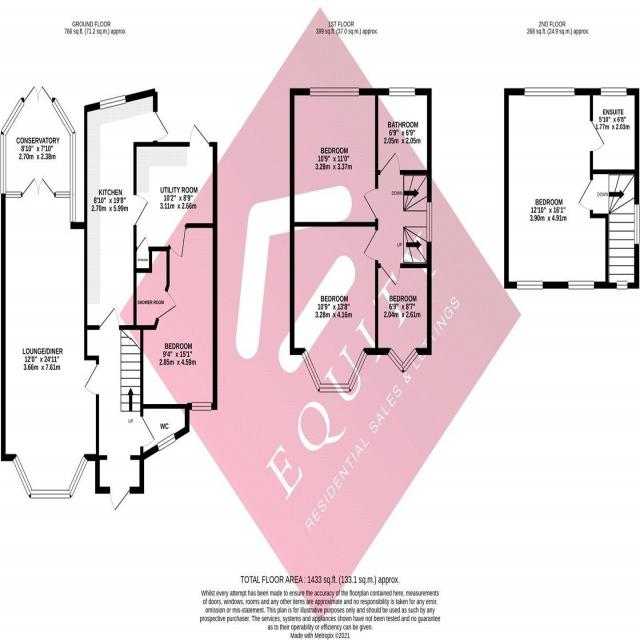DOOR: (589, 117, 607, 153), (152, 109, 170, 143), (82, 362, 99, 396), (170, 225, 187, 259), (109, 486, 131, 512), (363, 227, 379, 262), (363, 187, 379, 220), (188, 123, 210, 147), (98, 306, 120, 330), (133, 194, 150, 225), (380, 263, 402, 286), (379, 151, 400, 174)
ROOM: (1, 177, 100, 499), (503, 88, 610, 289), (84, 88, 170, 330), (289, 221, 379, 393), (140, 221, 218, 413), (290, 88, 378, 228), (375, 263, 432, 373)
WINDOW: (12, 454, 89, 500), (51, 97, 77, 223), (301, 347, 368, 393), (385, 346, 420, 374), (0, 97, 25, 136), (523, 86, 577, 98), (308, 86, 360, 97), (97, 94, 127, 110), (600, 84, 629, 99), (567, 279, 597, 293), (156, 432, 176, 452), (1, 132, 7, 198), (515, 278, 545, 291), (426, 198, 433, 243), (388, 86, 415, 97), (191, 401, 212, 413)
